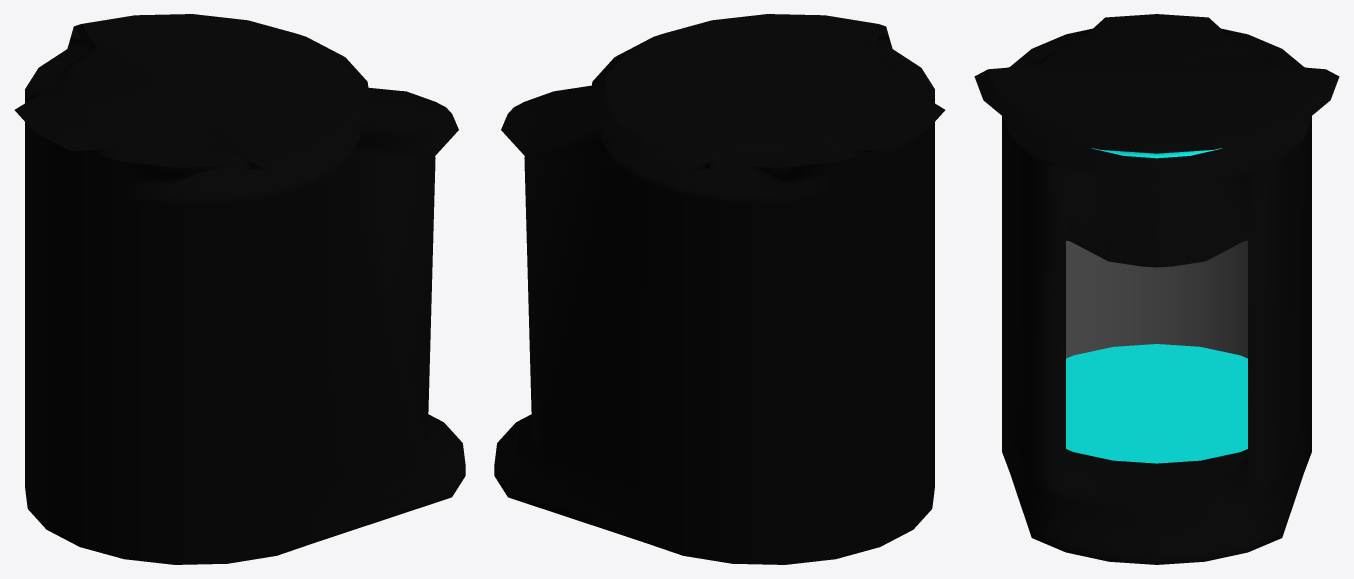
File: Shelter.fbx
3 views of the same model, side by side, from view 1: azimuth 30°, elevation 25°; view 2: azimuth 150°, elevation 25°; view 3: azimuth 270°, elevation 25° (orthographic). The views are drawn at different scales.
Parts seen in each view (by area): view 1: pCylinder7; view 2: pCylinder7; view 3: pCylinder7.
Part boxes in pixels (x1,y1,x2,y2): pCylinder7: (14, 14, 465, 564); pCylinder7: (494, 14, 945, 564); pCylinder7: (974, 14, 1339, 564).
Size of the model in its own units: 8.45 by 8 by 7.07.
